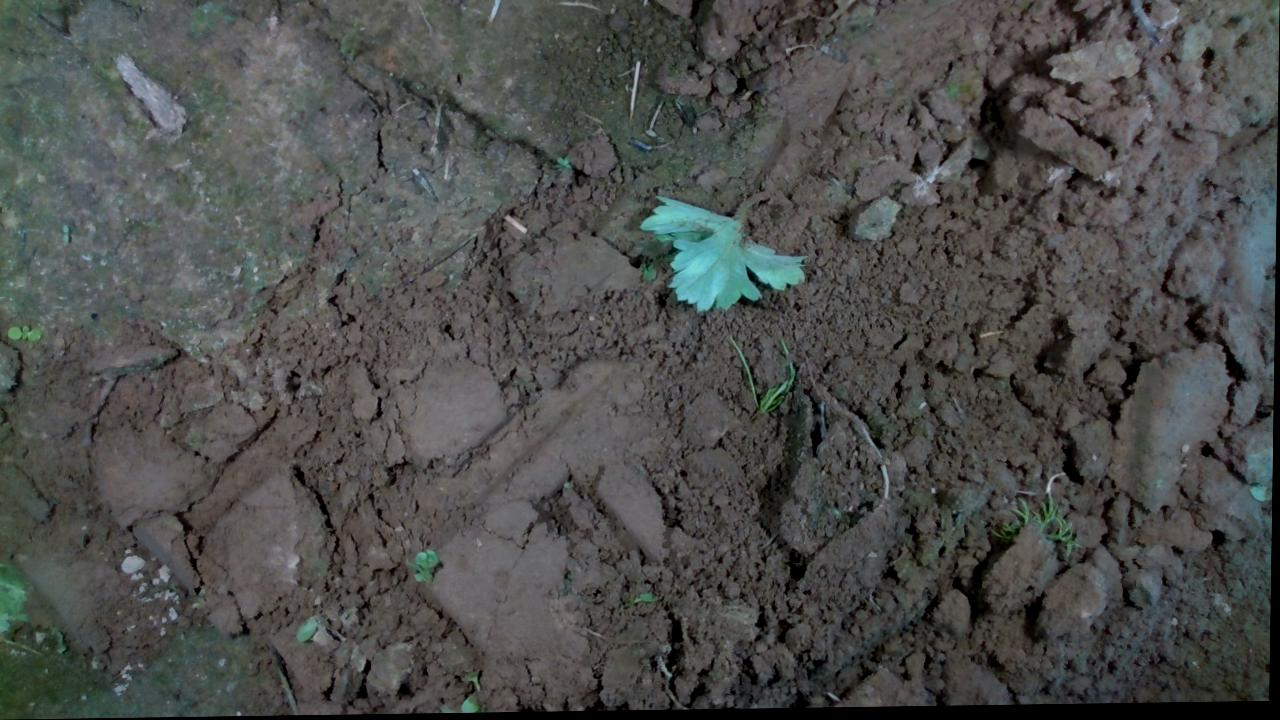weed: (10, 313, 56, 352)
